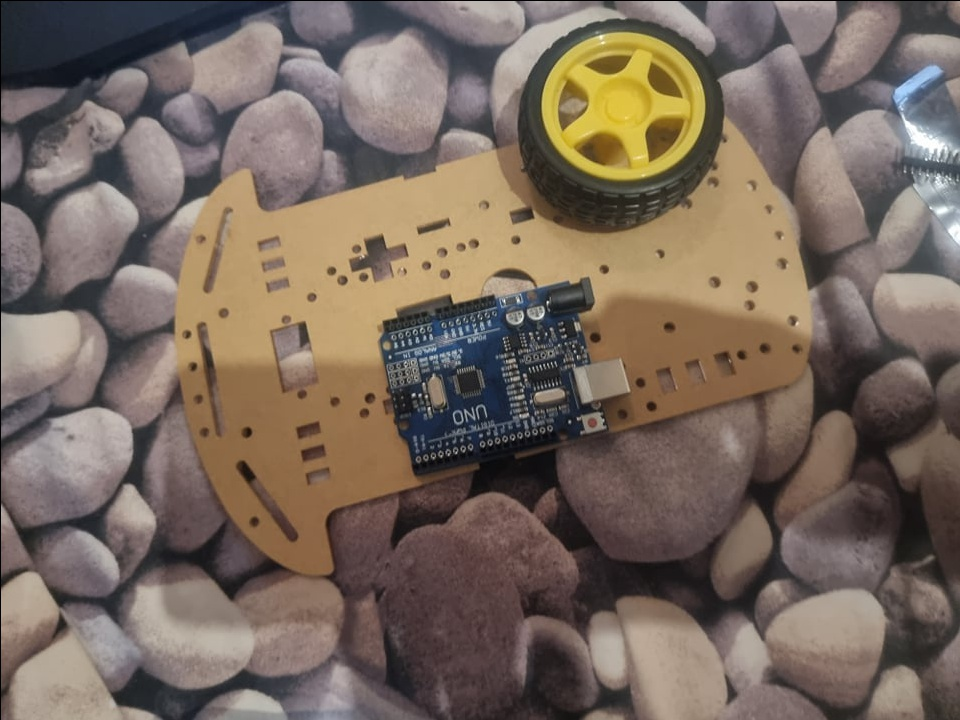UNO R3: (377, 275, 632, 474)
